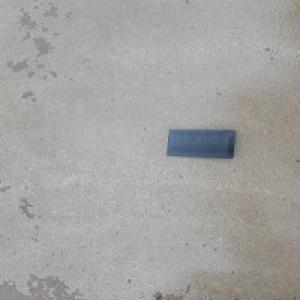PlasticPart: (165, 128, 237, 159)
